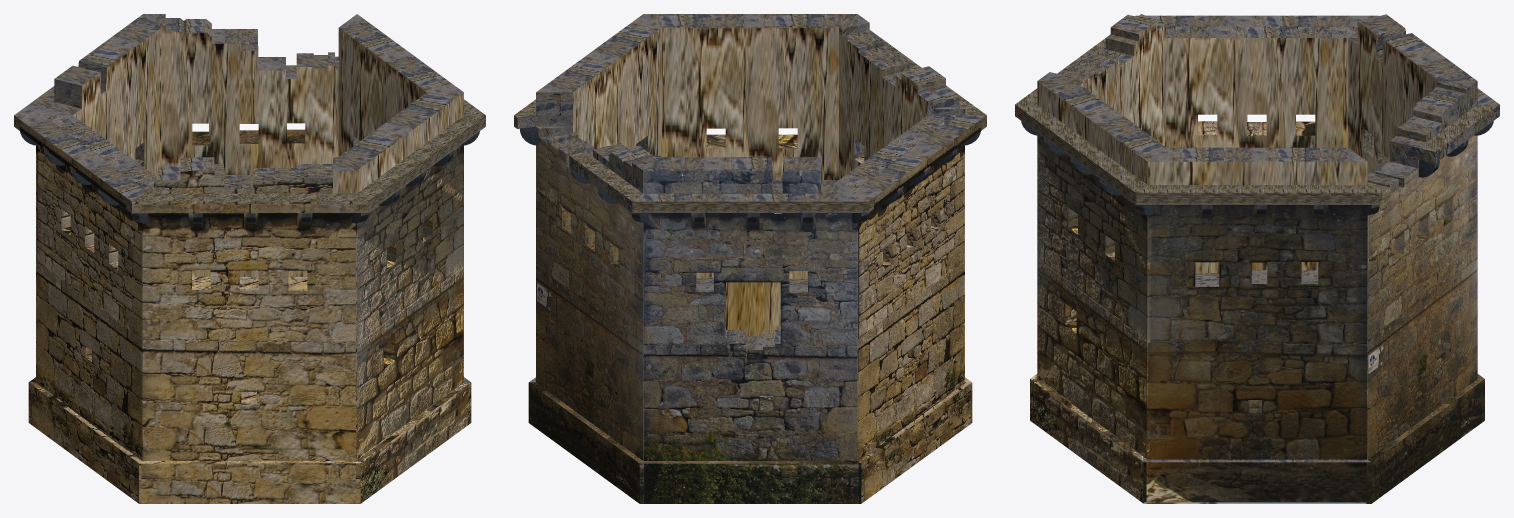
The model's file is tower.glb.
3 renders of one model, left to right at view 1: azimuth 30°, elevation 25°; view 2: azimuth 150°, elevation 25°; view 3: azimuth 270°, elevation 25°, orthographic. The views are drawn at different scales.
Parts seen in each view (by area): view 1: 3d-model; view 2: 3d-model; view 3: 3d-model.
Part boxes in pixels (x1,y1,x2,y2): 3d-model: [14, 14, 485, 503]; 3d-model: [514, 14, 986, 503]; 3d-model: [1015, 14, 1499, 503].
Size of the model in its own units: 0.2555 by 0.2276 by 0.2945.
11 materials, 11 textured.
